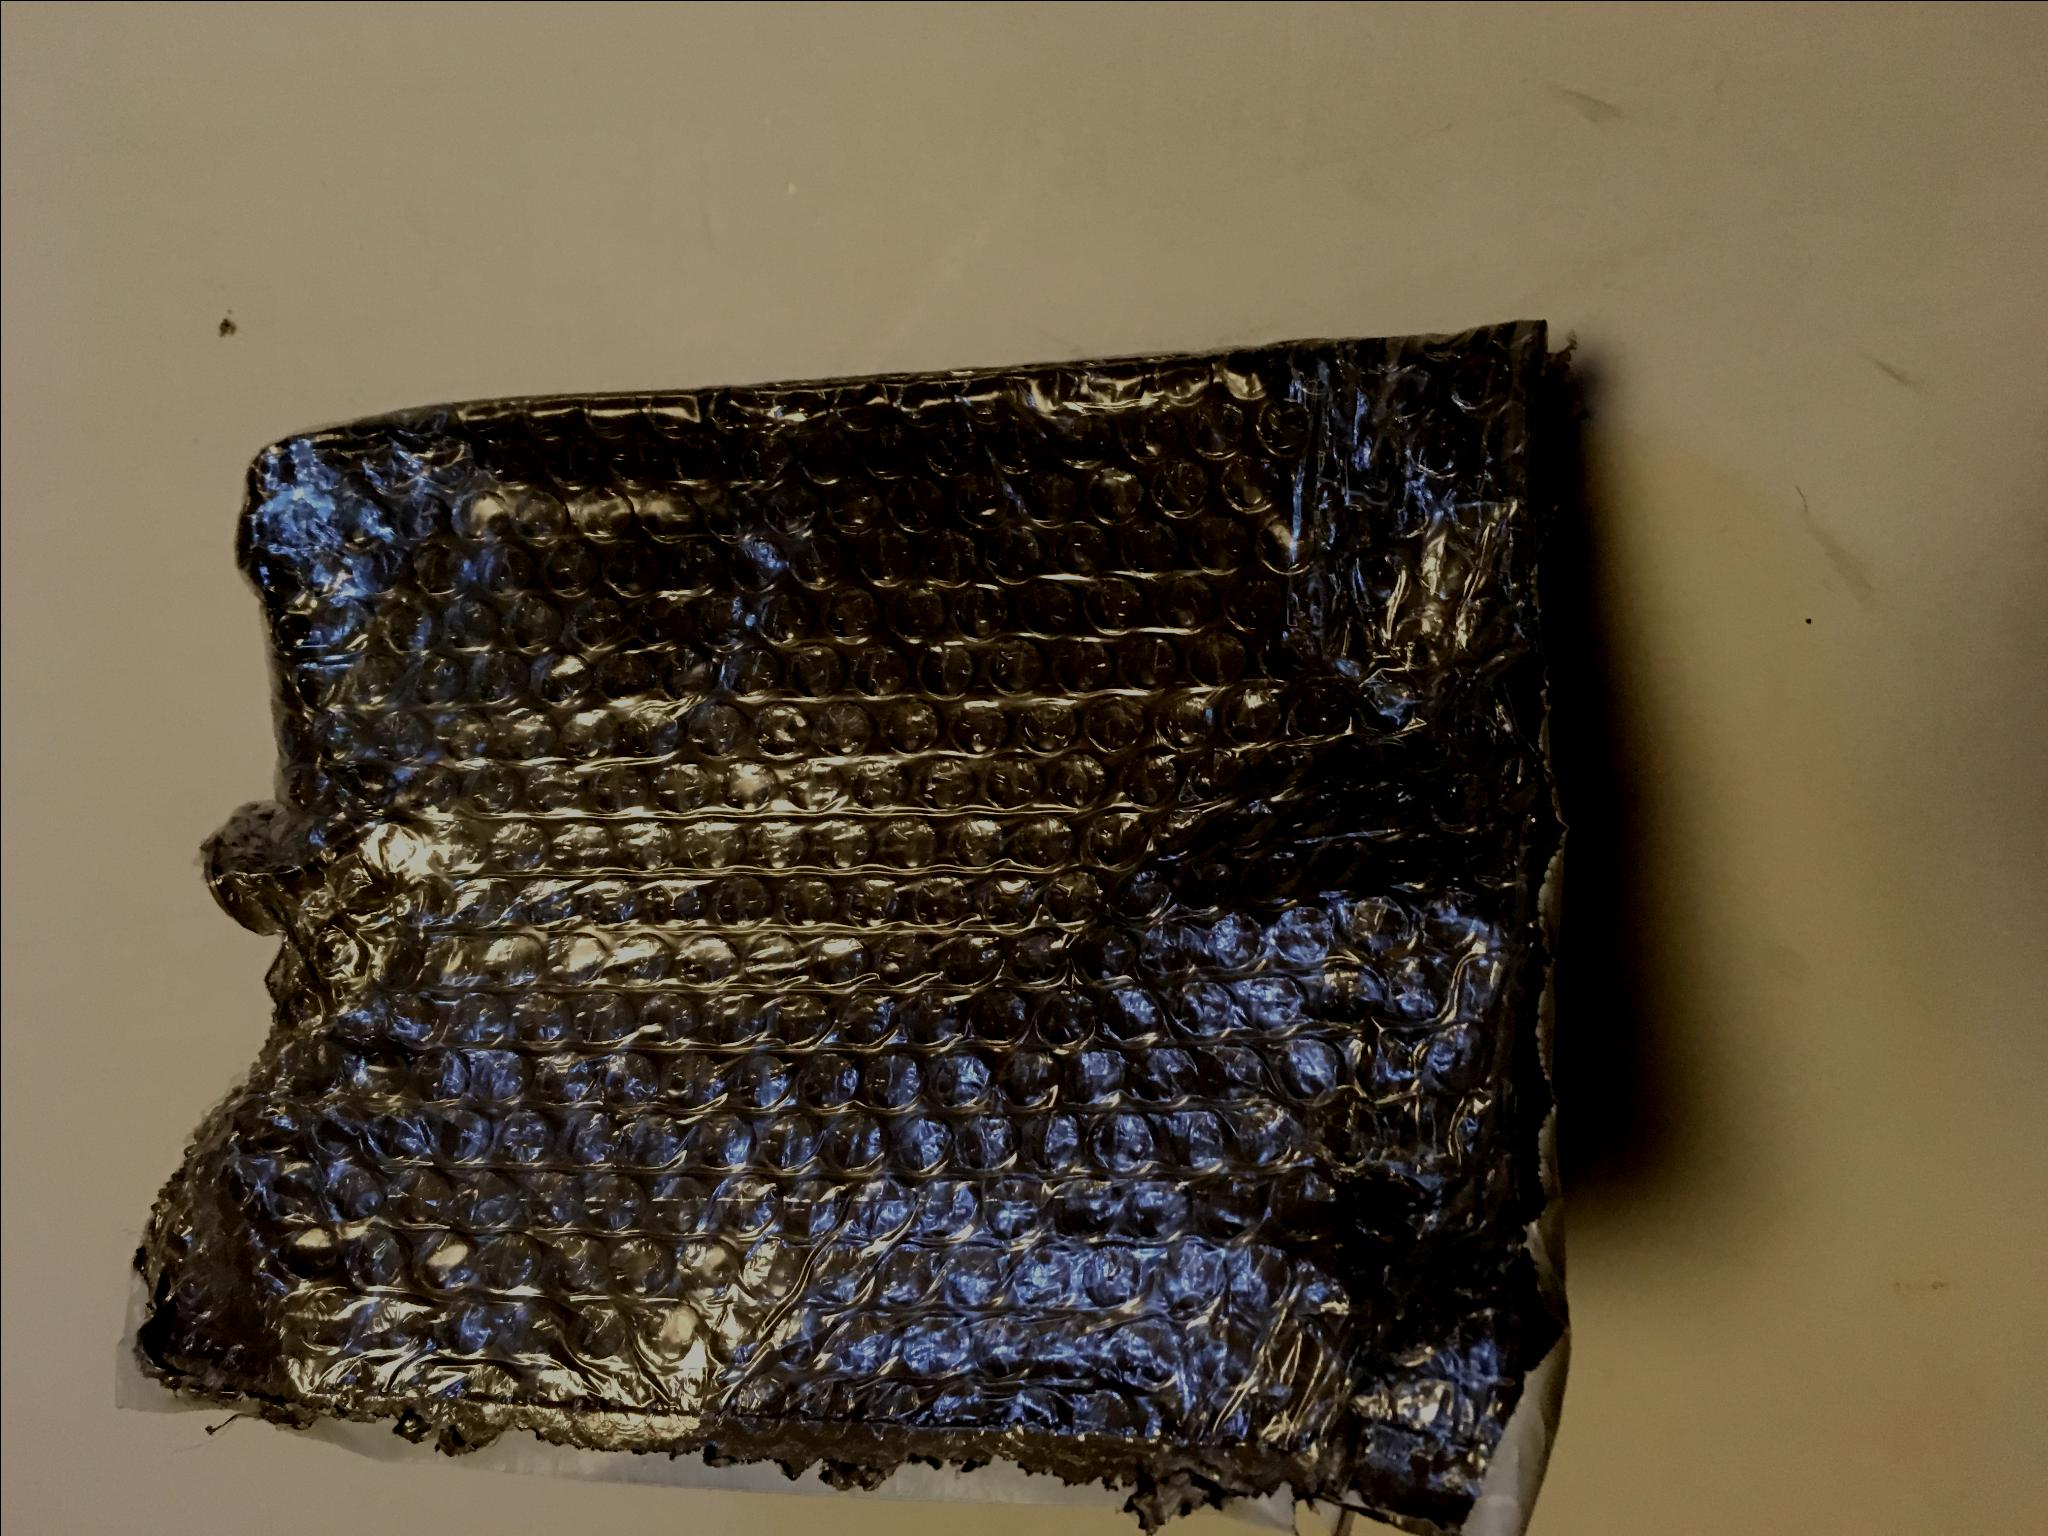Plastic: (27, 300, 1595, 1534)
